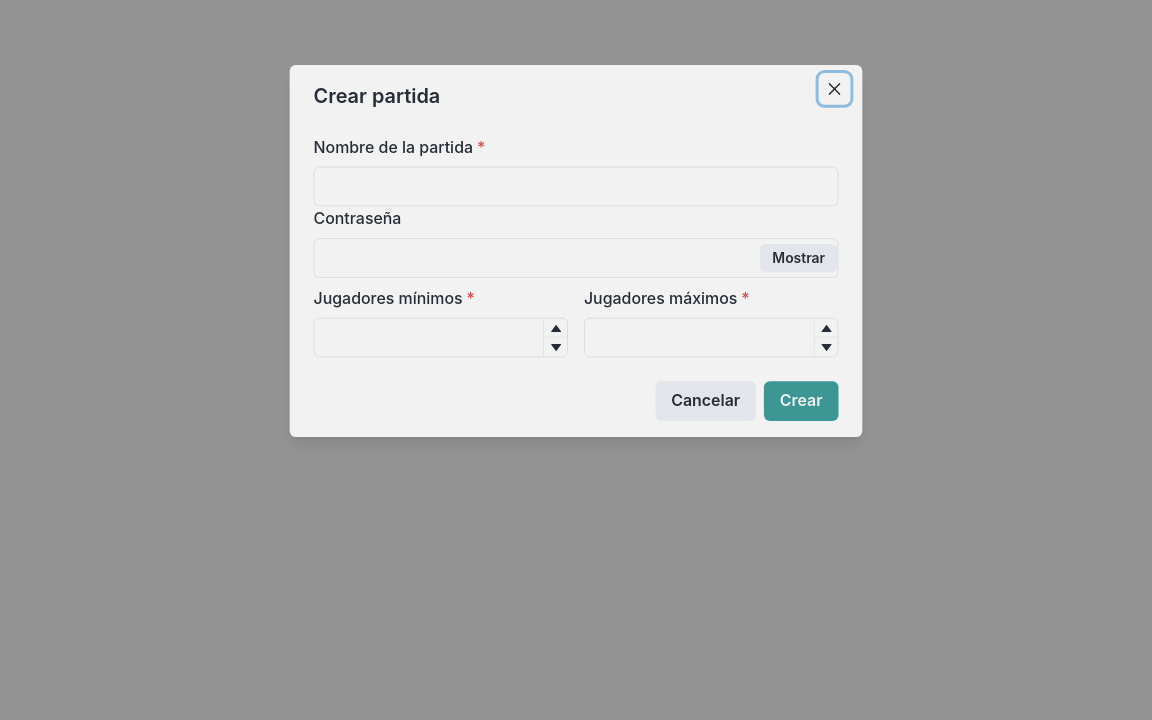
RoomCreationForm › No se puede crear una sala con un número de jugadores mínimos mayor que el de jugadores máximos y se muestra un mensaje de error
Type "Sala de test" into the field labelled "Nombre de la partida" at {"x": 576, "y": 186}, box [314,166,838,206]
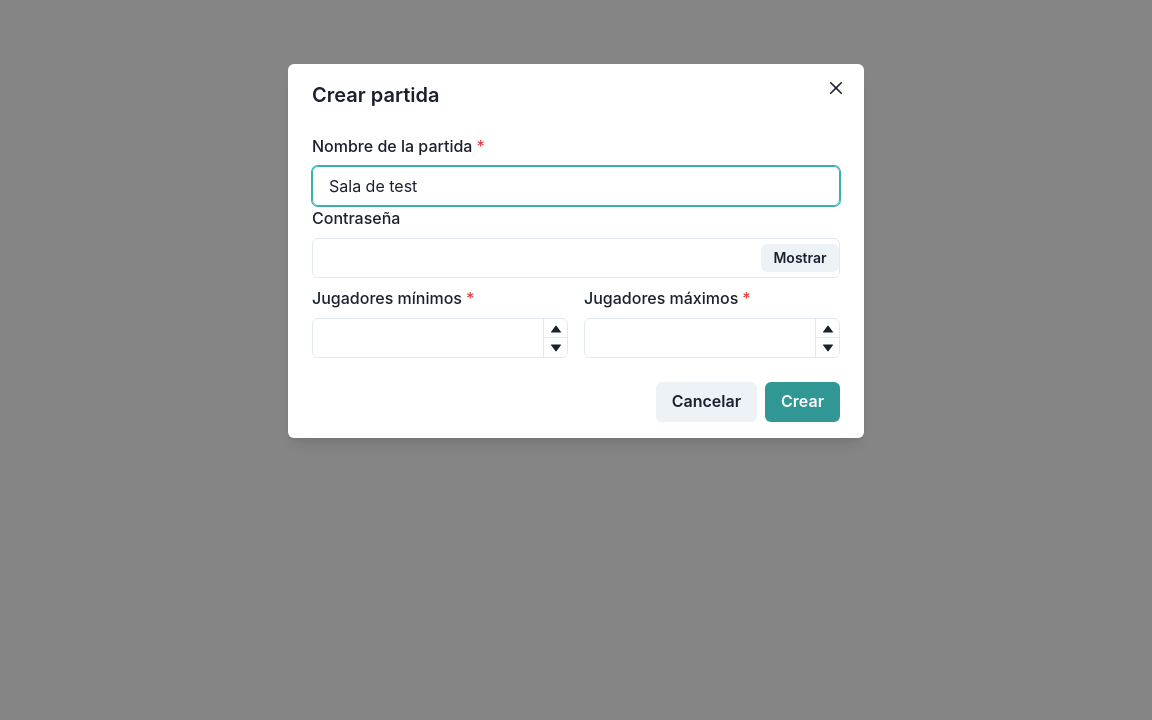
Type "4" into the number field labelled "Jugadores mínimos" at {"x": 440, "y": 338}, box [312,318,568,358]
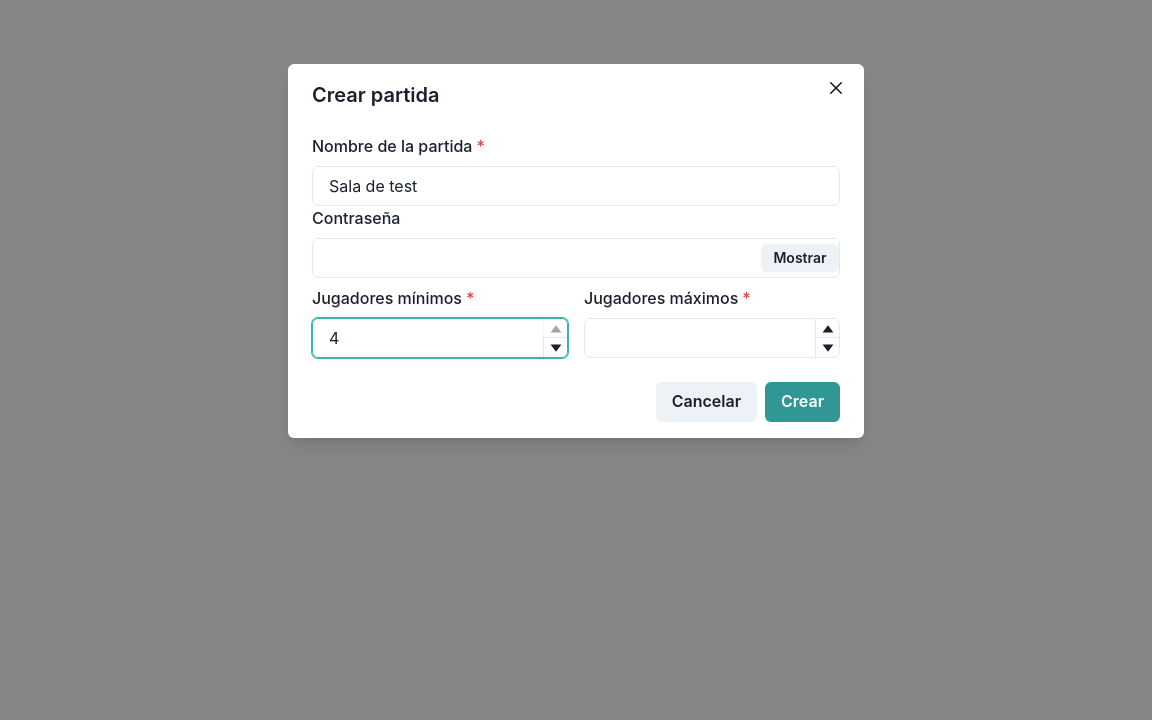
Type "2" into the number field labelled "Jugadores máximos" at {"x": 712, "y": 338}, box [584,318,840,358]
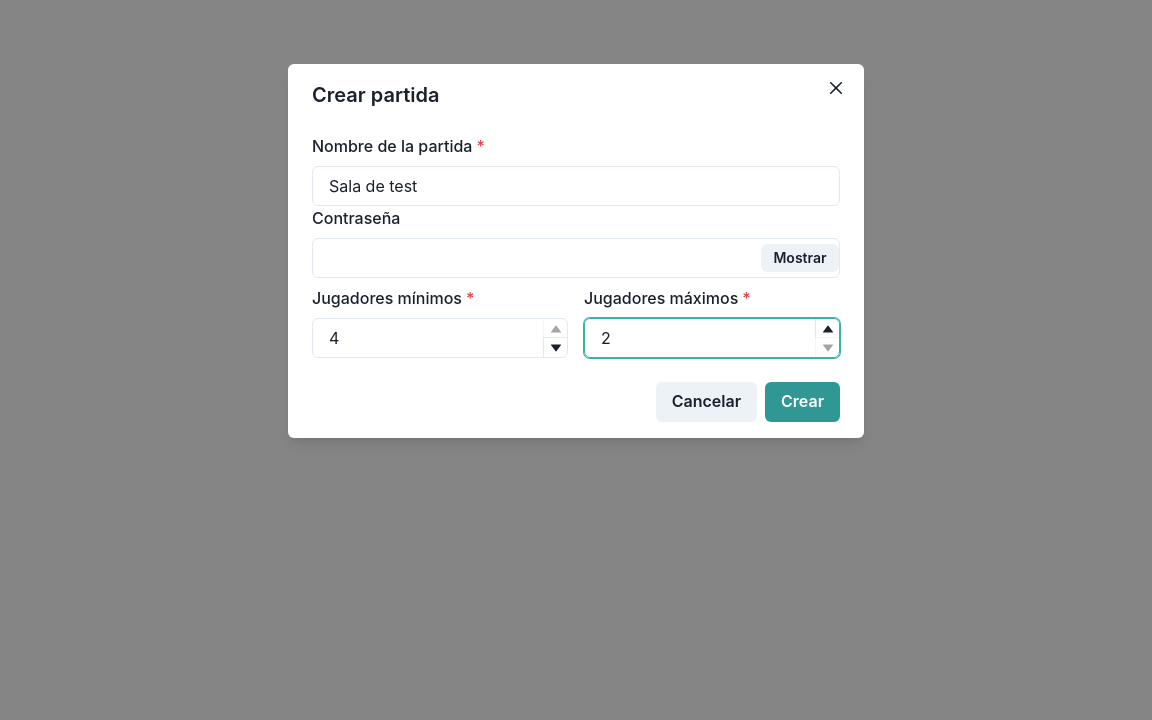
Click the button "Crear" at {"x": 802, "y": 402}, box [765,382,840,422]
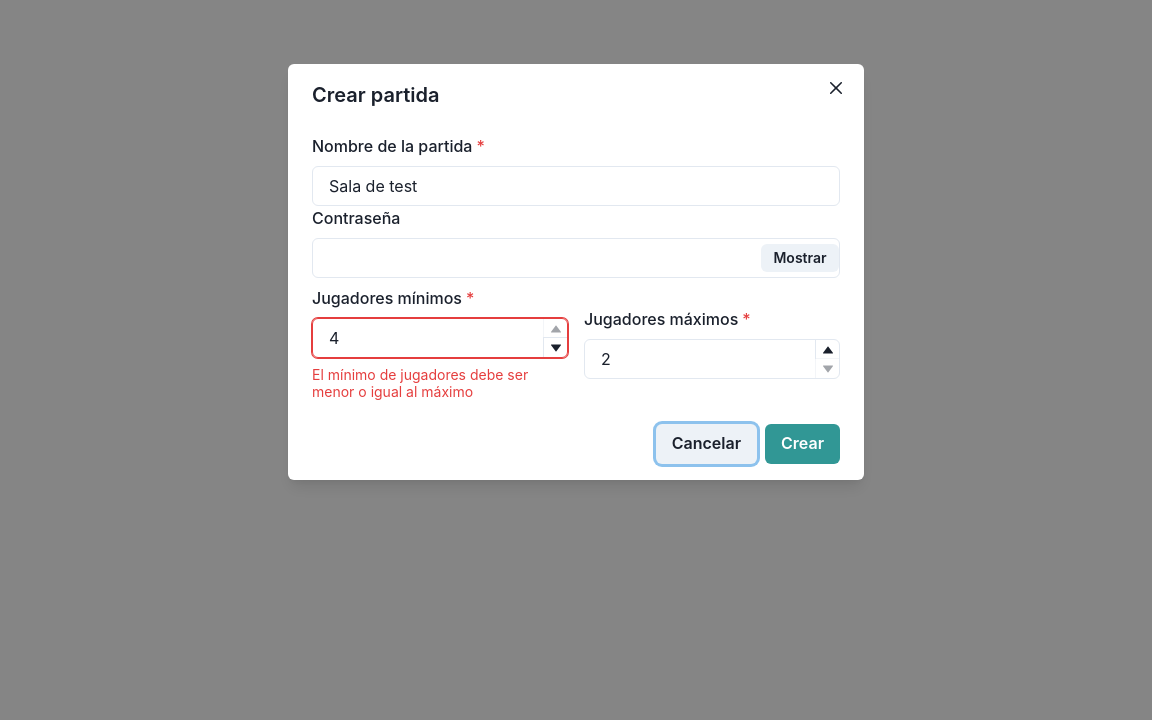
Result: the text "El mínimo de jugadores debe ser menor o igual al máximo" is shown at [312,366,528,400]
